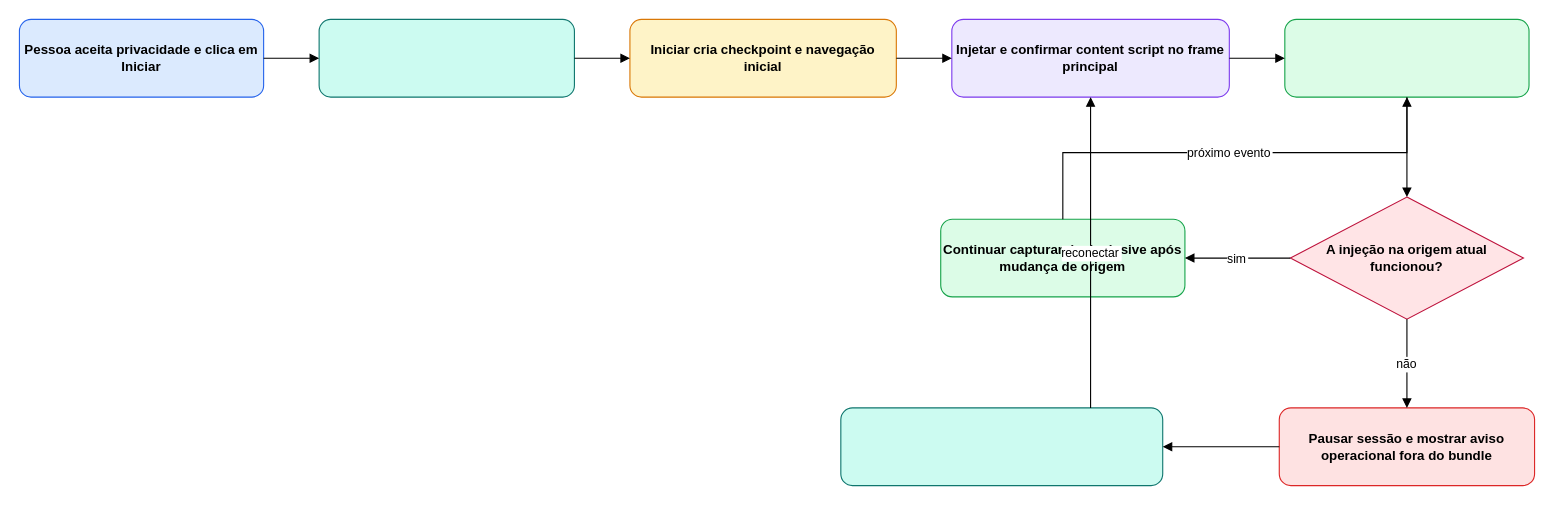
Some shapes in this 1554 by 505 pixel diagram are drawn without their labels. Here are the shapes that lost their labels. From the top down, the centre of each, then its label:
the point at 446,57: Chrome solicita e persiste acesso opcional a HTTP(S)
the point at 1406,57: Timeline e screenshot aparecem
the point at 1001,446: Restabelecer acesso amplo e retomar explicitamente
